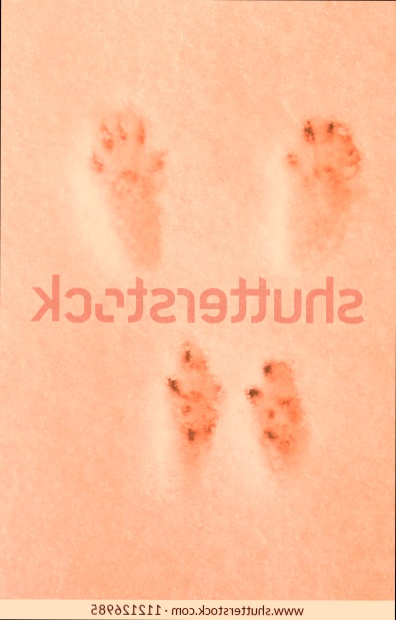ecureuil: (12, 99, 139, 276), (205, 87, 317, 277), (157, 324, 234, 490), (70, 340, 158, 482)
